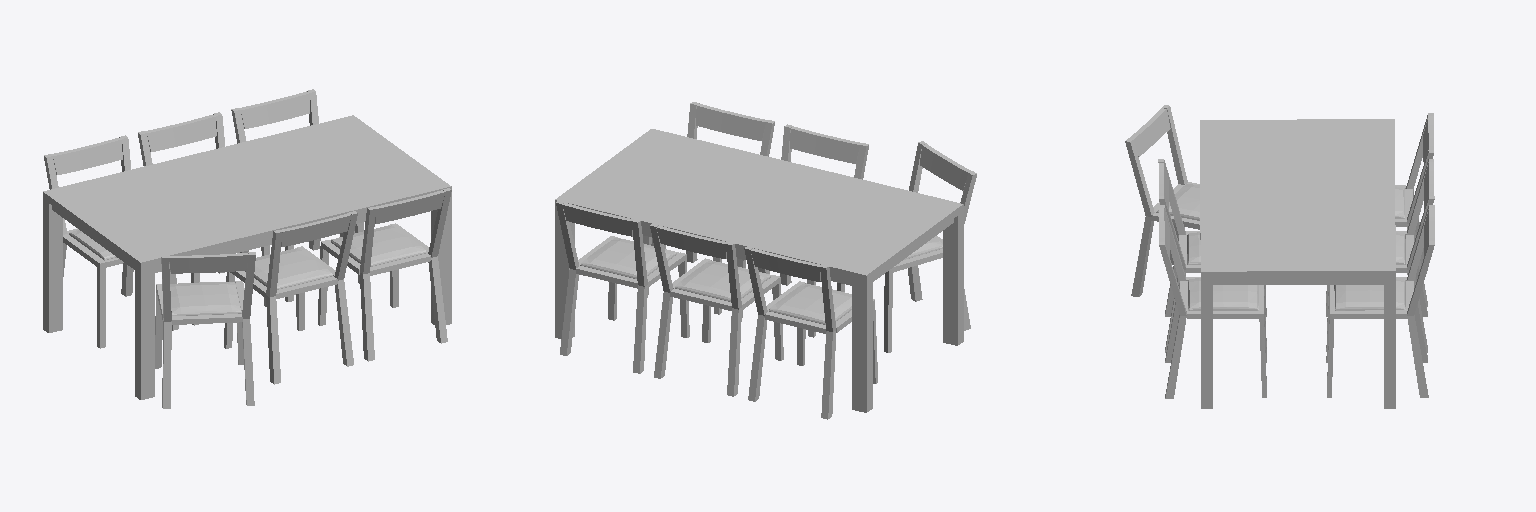
Rendered from IKEA-Bjursta_Table_and_Roger_Chairs-3D.obj.
3 renders of one model, left to right at view 1: azimuth 30°, elevation 25°; view 2: azimuth 150°, elevation 25°; view 3: azimuth 270°, elevation 25°, orthographic.
Parts seen in each view (by area): view 1: Box01, Box02, Box05, Box04, Box08, Box06, Box07; view 2: Box01, Box06, Box07, Box08, Box05, Box02, Box04; view 3: Box01, Box06, Box02, Box05, Box04, Box07, Box08.
Boxes of the visible parts, box(x1,y1,x2,y2) form: Box01: box(43, 115, 451, 399); Box02: box(318, 188, 451, 361); Box05: box(155, 252, 255, 408); Box04: box(224, 211, 357, 384); Box08: box(44, 135, 178, 348); Box06: box(231, 89, 363, 301); Box07: box(138, 112, 269, 325); Box01: box(555, 129, 963, 412); Box06: box(556, 201, 689, 373); Box07: box(650, 224, 783, 396); Box08: box(744, 246, 877, 419); Box05: box(837, 141, 976, 352); Box02: box(643, 102, 774, 314); Box04: box(737, 124, 868, 337); Box01: box(1200, 119, 1395, 408); Box06: box(1326, 205, 1434, 397); Box02: box(1159, 205, 1266, 398); Box05: box(1125, 105, 1199, 296); Box04: box(1158, 159, 1266, 352); Box07: box(1326, 159, 1434, 352); Box08: box(1326, 113, 1433, 306).
Size of the model in its own units: 175 by 82.89 by 151.